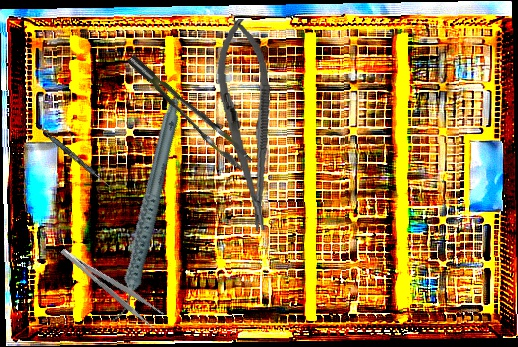Dressing Forceps: (58, 238, 165, 330)
Handpiece: (67, 95, 224, 326)
Needle Holder: (211, 16, 285, 234)
Spatula Surgical: (32, 122, 117, 192)
Tissue Forceps: (126, 40, 254, 182)
